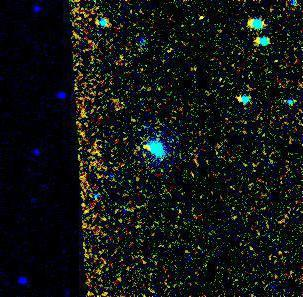star: (130, 131, 160, 161)
